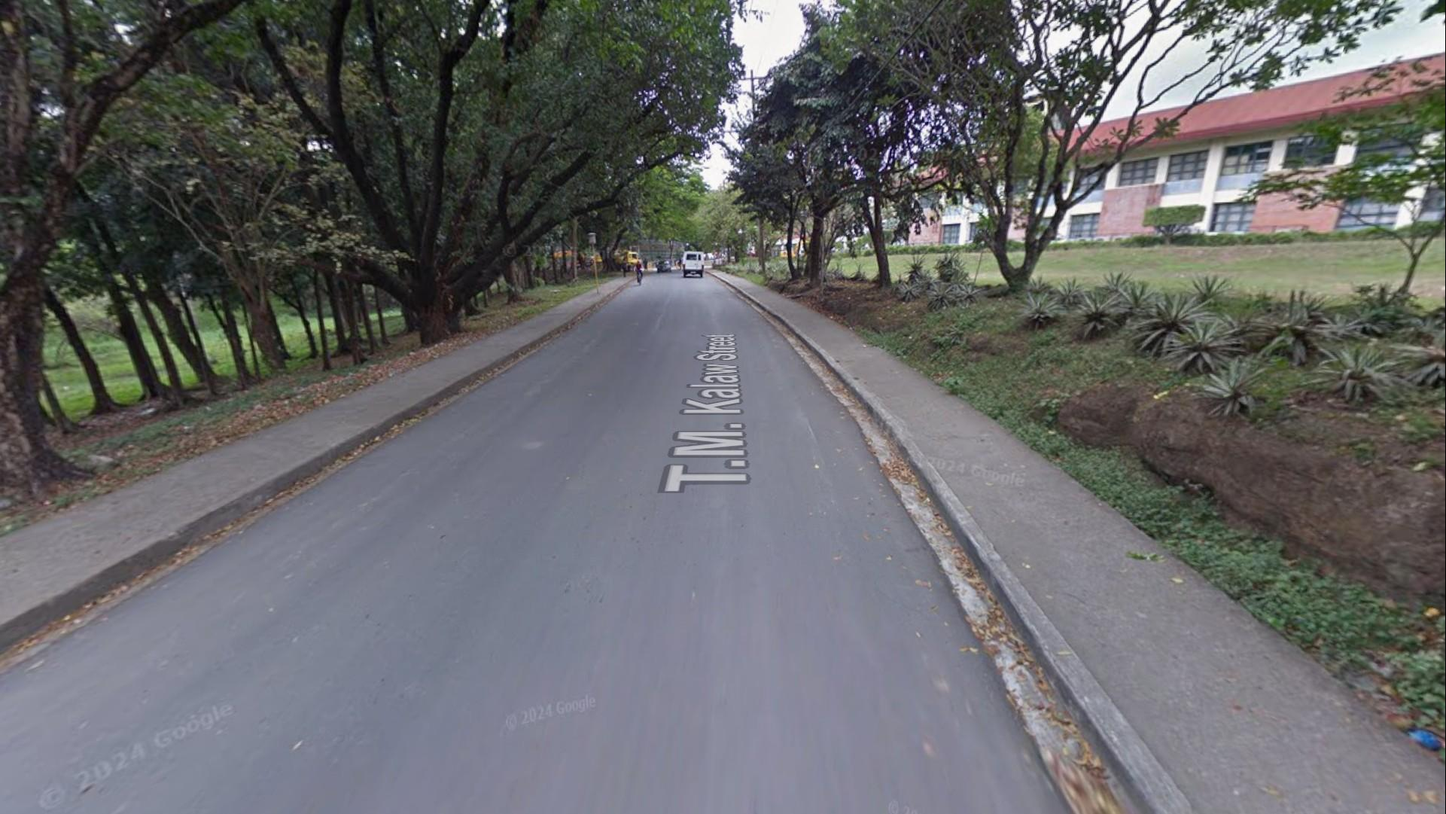cyclist: (634, 260, 644, 286)
pedestrian: (620, 257, 627, 278), (643, 257, 649, 272)
